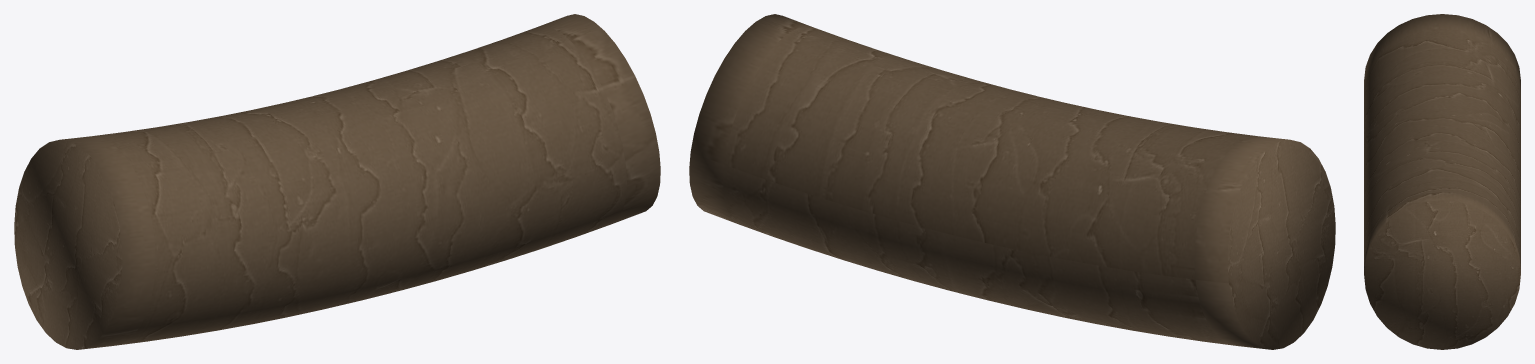
The model's file is Hair.glb.
3 renders of one model, left to right at view 1: azimuth 30°, elevation 25°; view 2: azimuth 150°, elevation 25°; view 3: azimuth 270°, elevation 25°, orthographic. The views are drawn at different scales.
Parts seen in each view (by area): view 1: Cylinder; view 2: Cylinder; view 3: Cylinder.
Boxes of the visible parts, <box> form: Cylinder: <box>14,14,660,349</box>; Cylinder: <box>689,14,1335,349</box>; Cylinder: <box>1364,14,1520,349</box>.
Bounding box in the file's own units: 29.31 × 10.42 × 9.51.
1 material, 1 textured.
